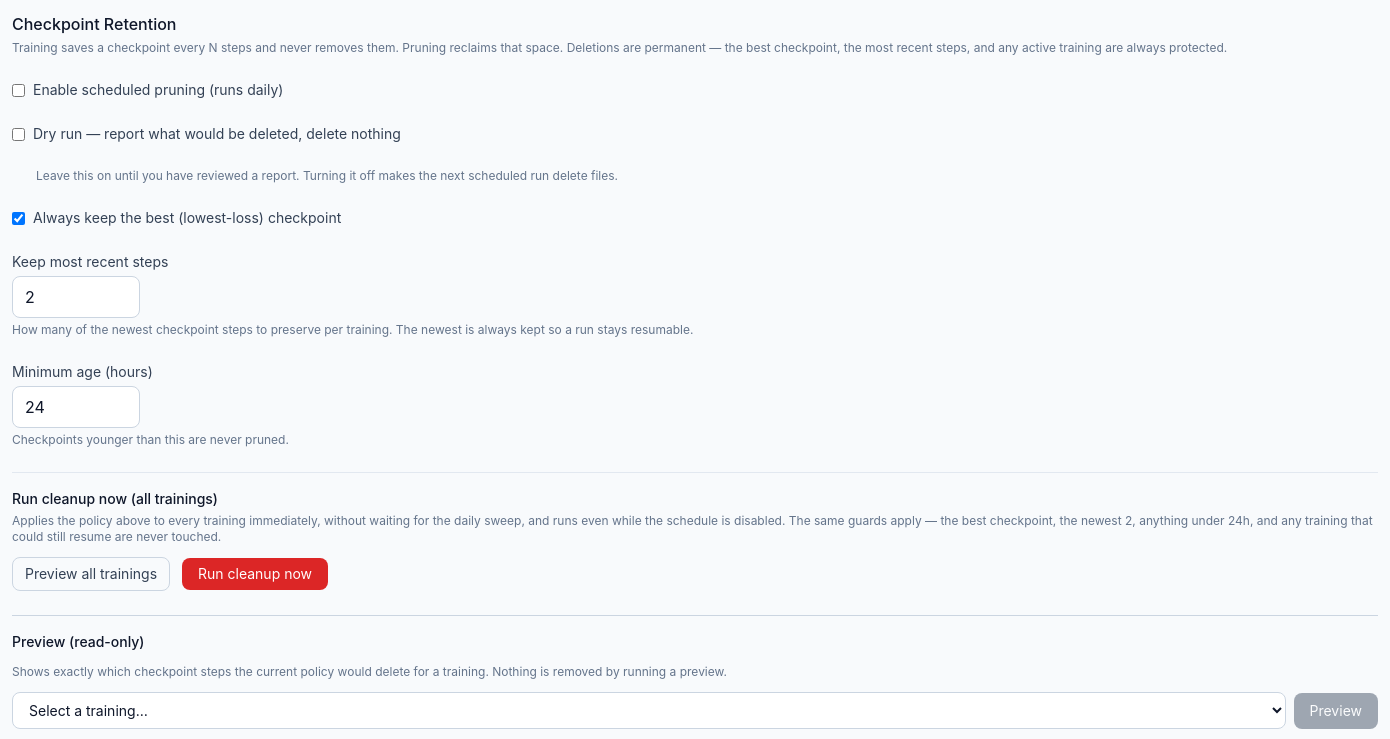
Run cleanup now (all trainings) › previews the whole sweep, sized
Click the button "Preview all trainings" at (91, 574), box [12,557,170,591]
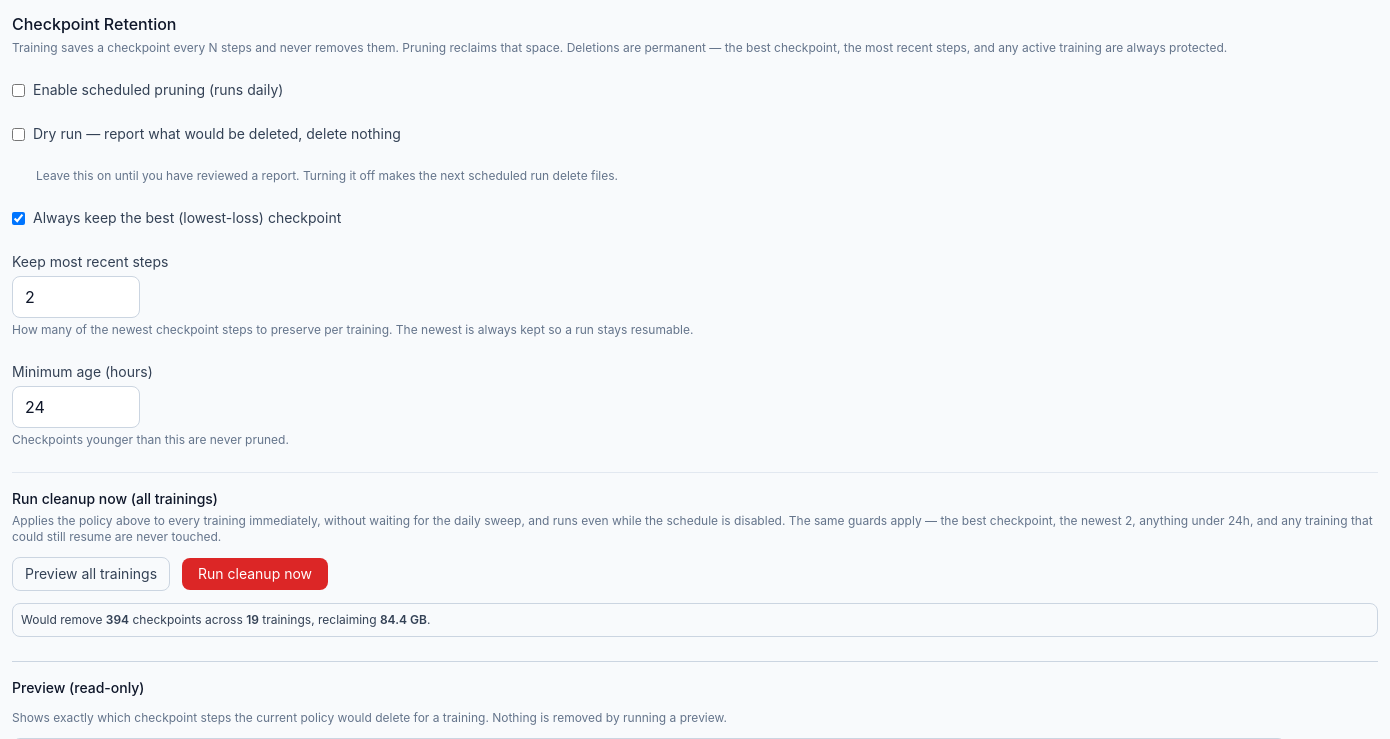
Check: the message shows "394", box [106,612,129,627]
Check: the message shows "19", box [246,612,259,627]
Check: the message shows "84.4 GB", box [380,612,427,627]
